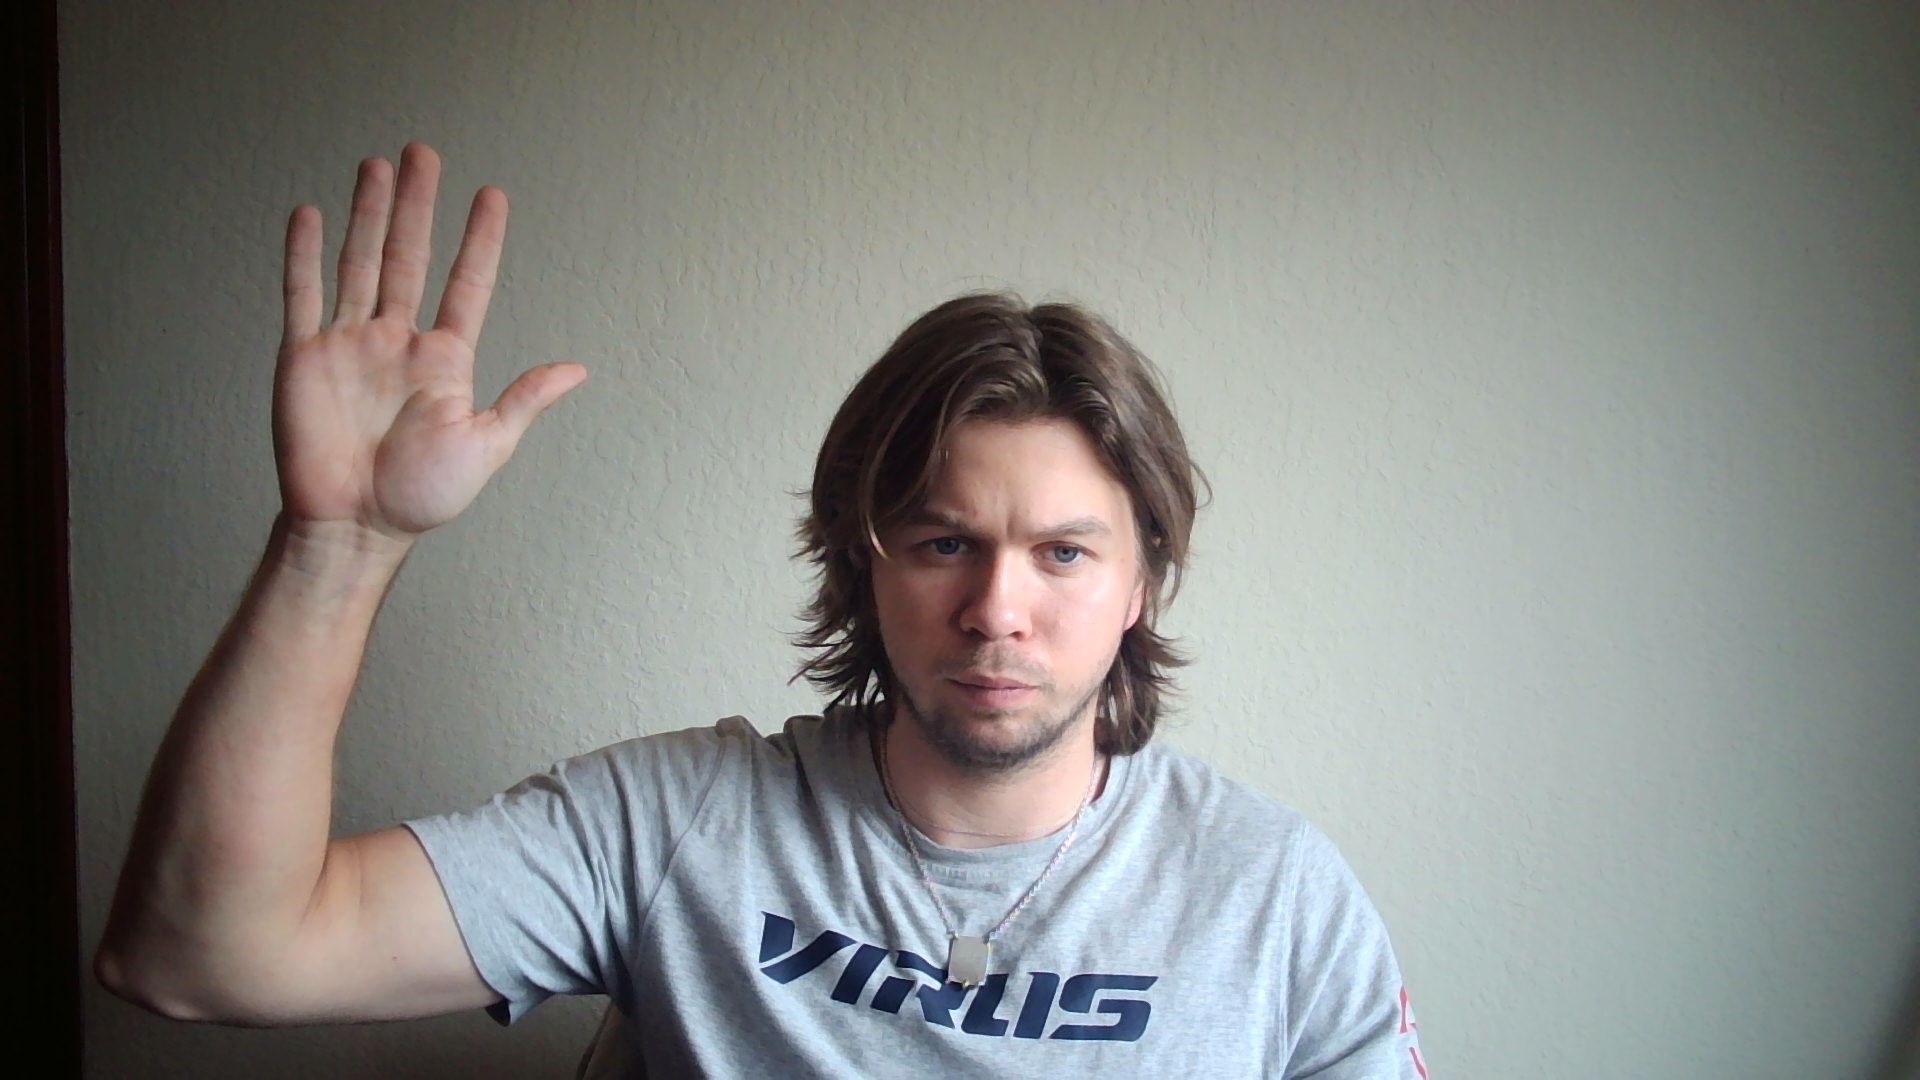hello: (272, 142, 588, 531)
